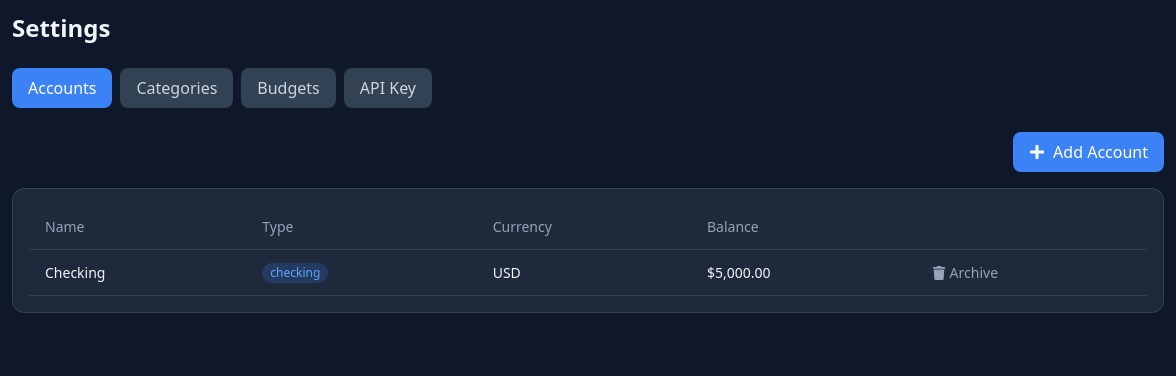
Test case: Settings › switches to categories tab
The image size is (1176, 376).
Click the tab "categories" at [177, 88], box [120, 68, 233, 108]
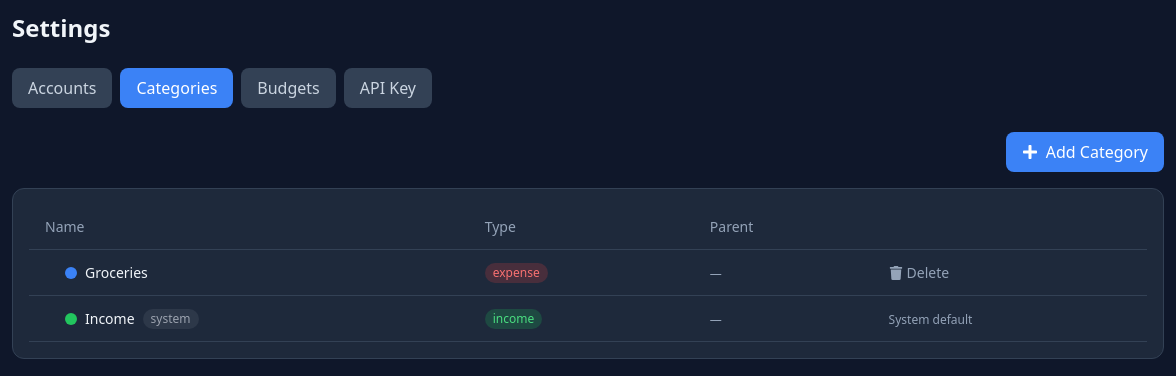
Expected: the button "Add Category" is shown, [1006, 132, 1164, 172]
